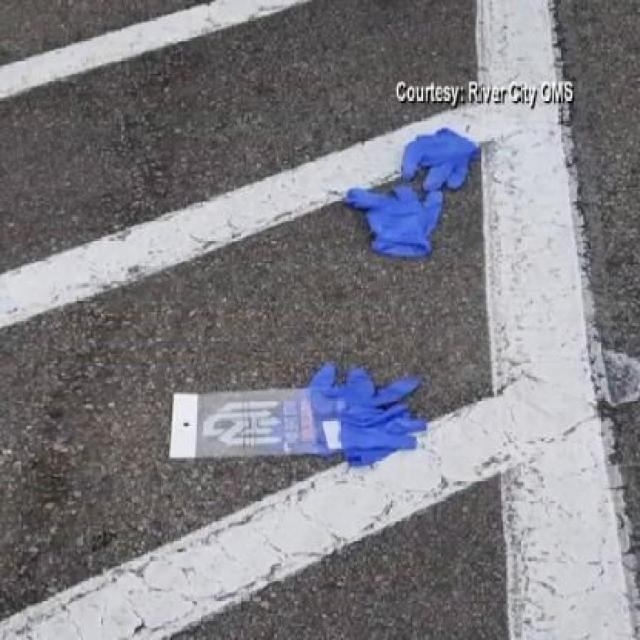glove_hand: (282, 352, 436, 492), (336, 173, 442, 270), (394, 118, 482, 194)
